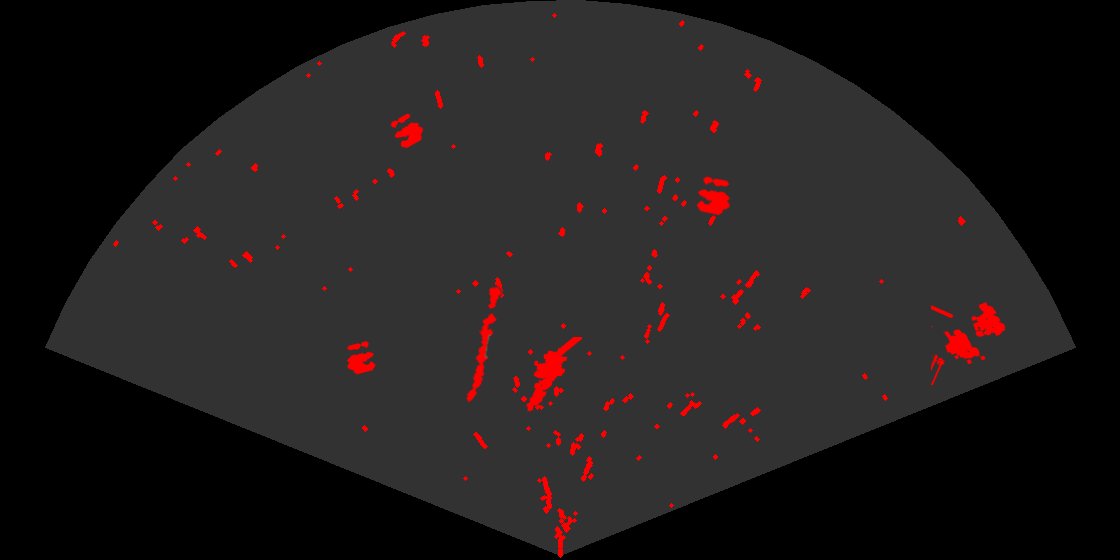ball: (695, 175, 732, 217), (389, 112, 425, 150), (345, 340, 377, 376)
cage: (931, 301, 1007, 385)
chain: (465, 284, 504, 404)
frogman: (525, 337, 582, 413)
